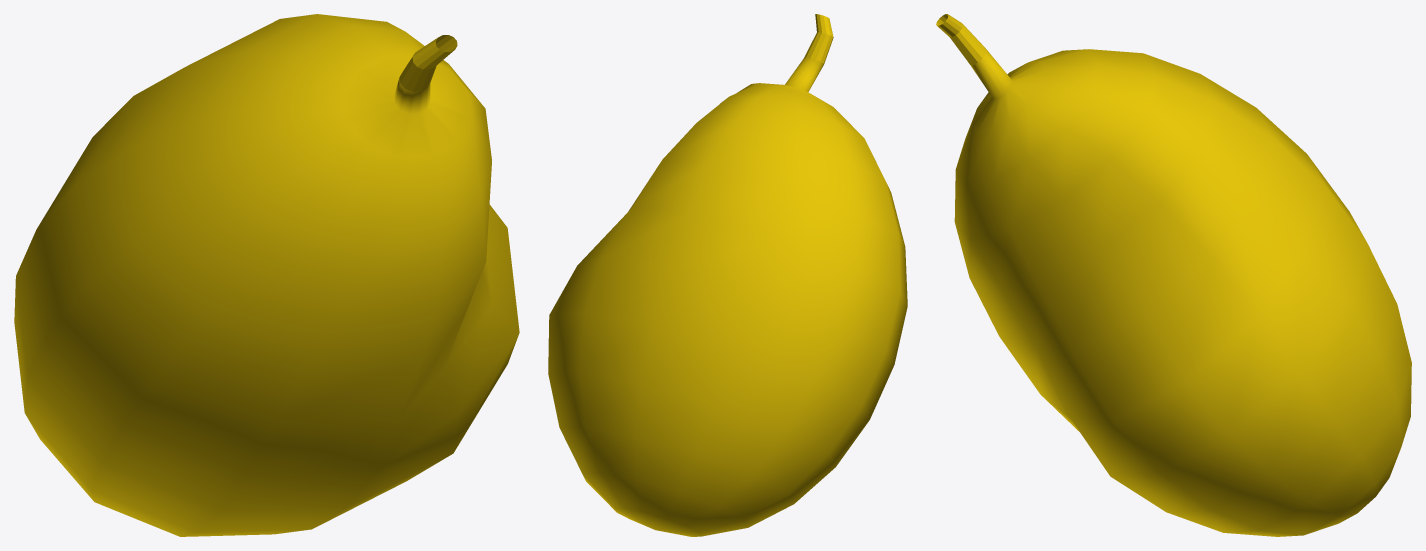
The model's file is mango.fbx.
The picture shows the model from 3 angles, left to right: view 1: azimuth 30°, elevation 25°; view 2: azimuth 150°, elevation 25°; view 3: azimuth 270°, elevation 25°; orthographic projection. The views are drawn at different scales.
Visible parts, largest first — view 1: mango; view 2: mango; view 3: mango.
Boxes of the visible parts, x1,y1,x2,y2 form: mango: (14, 14, 519, 536); mango: (548, 14, 907, 536); mango: (936, 14, 1411, 536).
Size of the model in its own units: 13.41 by 16.93 by 14.4.
